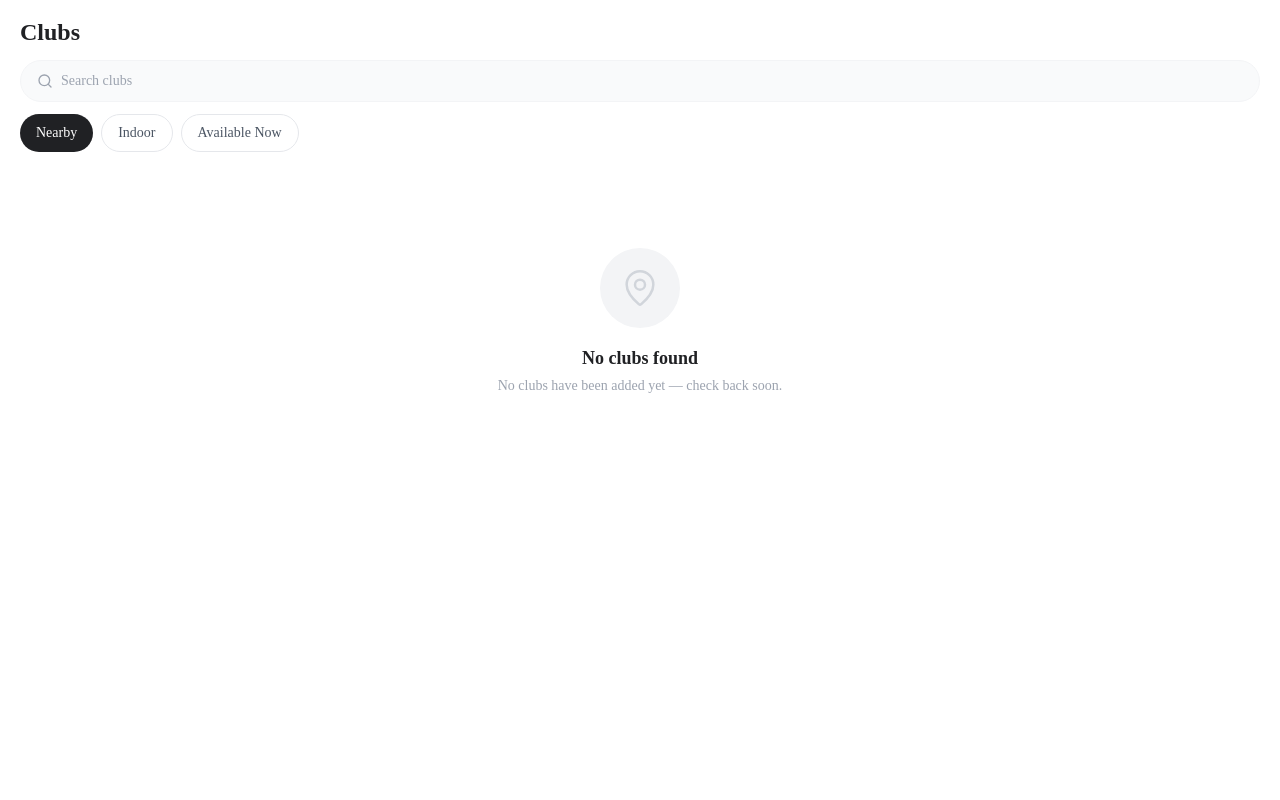
Clubs page — dynamic search suggestion chips › chips appear on focus, re-filter per query, and vanish (not an empty panel) on zero match
Focus the field labelled "Search clubs" at (652, 81), box [61,71,1243,91]
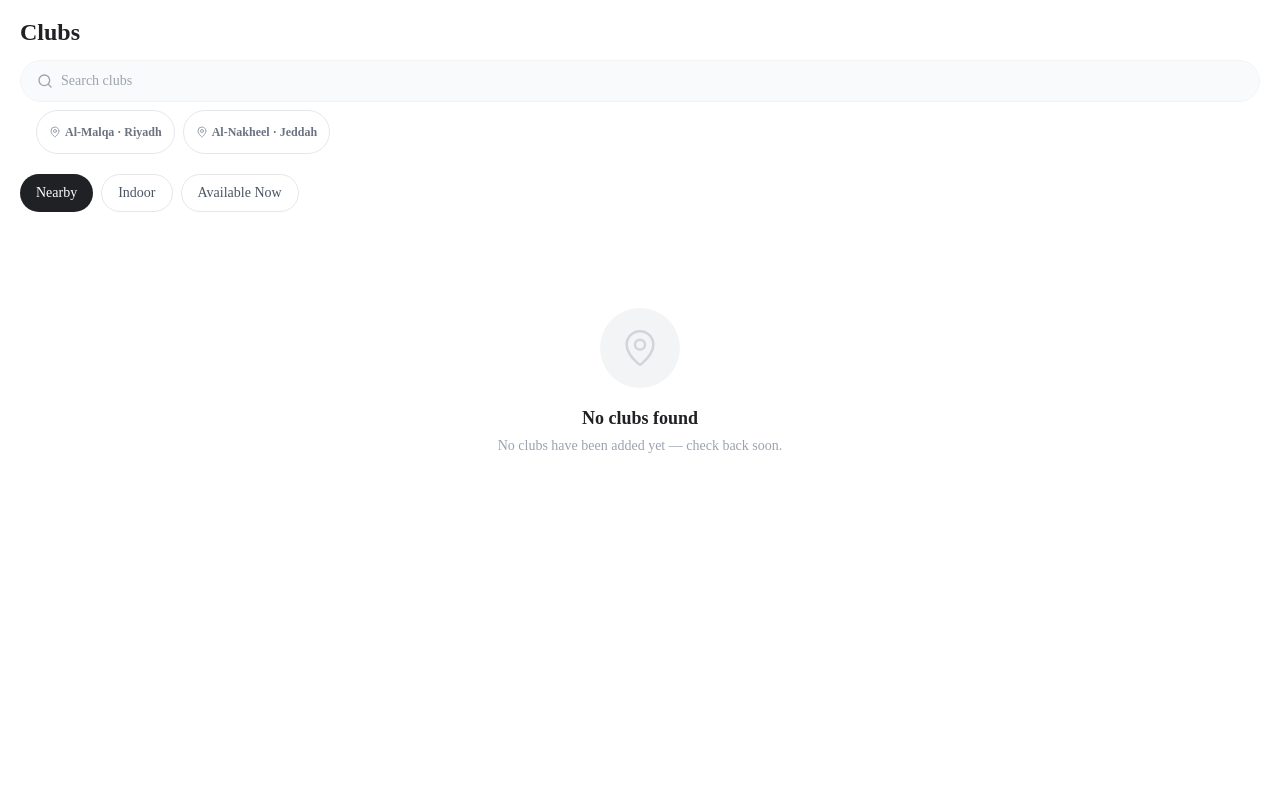
Now the element with test id "search-suggestion-chips" is shown, box [36,110,330,154]
Now the number of buttons with test id "search-suggestion-chip" is 2, box [36,110,175,154]; [183,110,330,154]
Note: Typing a city narrows the chips to that city's neighborhoods.
Type "Jeddah" into the field labelled "Search clubs" at (652, 81), box [61,71,1243,91]
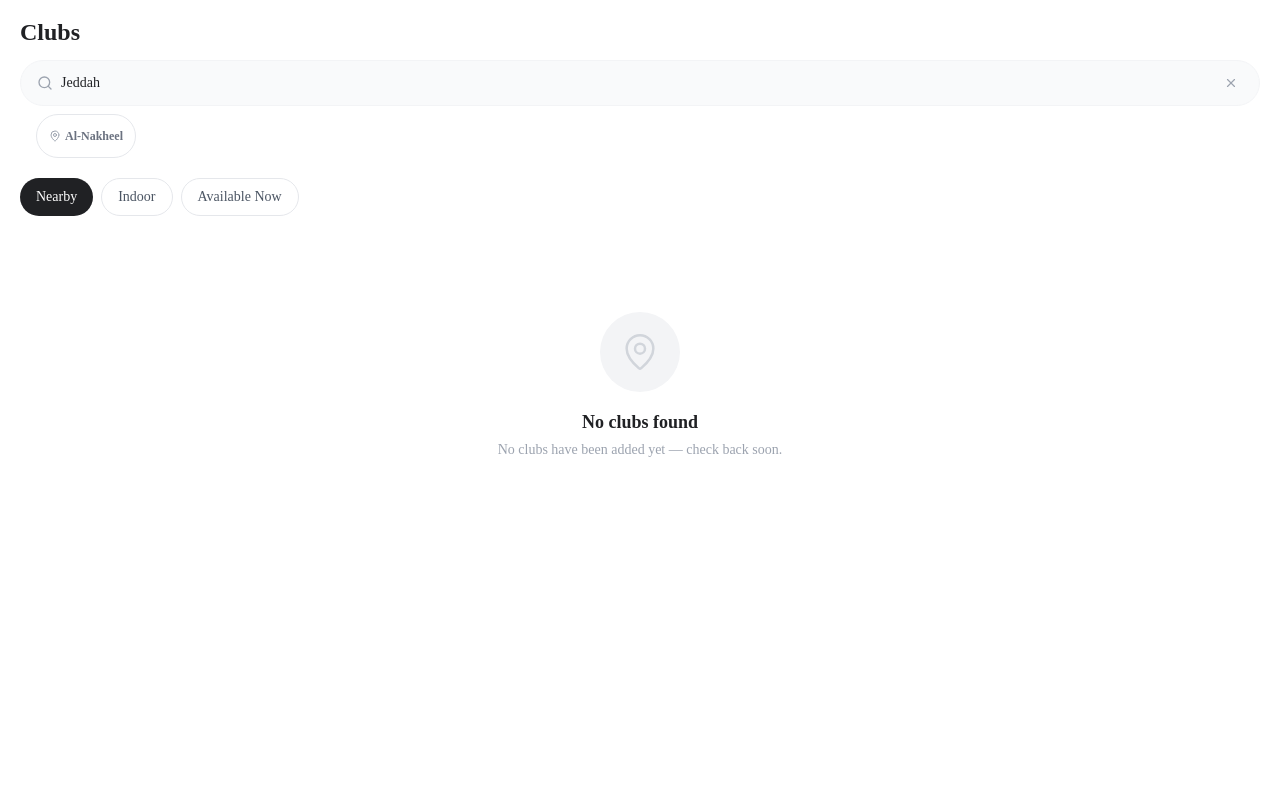
Now the number of buttons with test id "search-suggestion-chip" is 1, box [36,114,136,158]
Now the button with test id "search-suggestion-chip" reads "Al-Nakheel", box [36,114,136,158]
Replace the text in the field named "Search clubs" with "zzz-none" at (636, 83), box [61,73,1211,93]
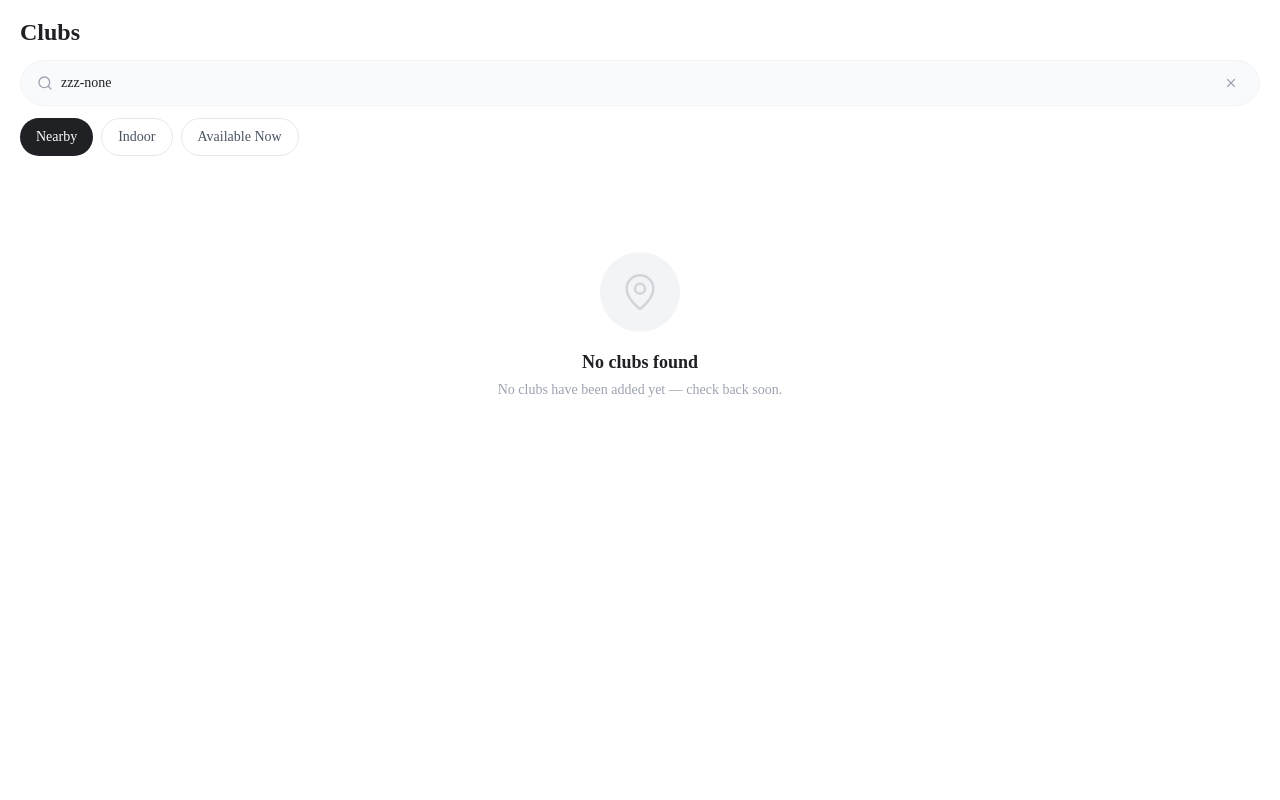
Now the element with test id "search-suggestion-chips" is gone
